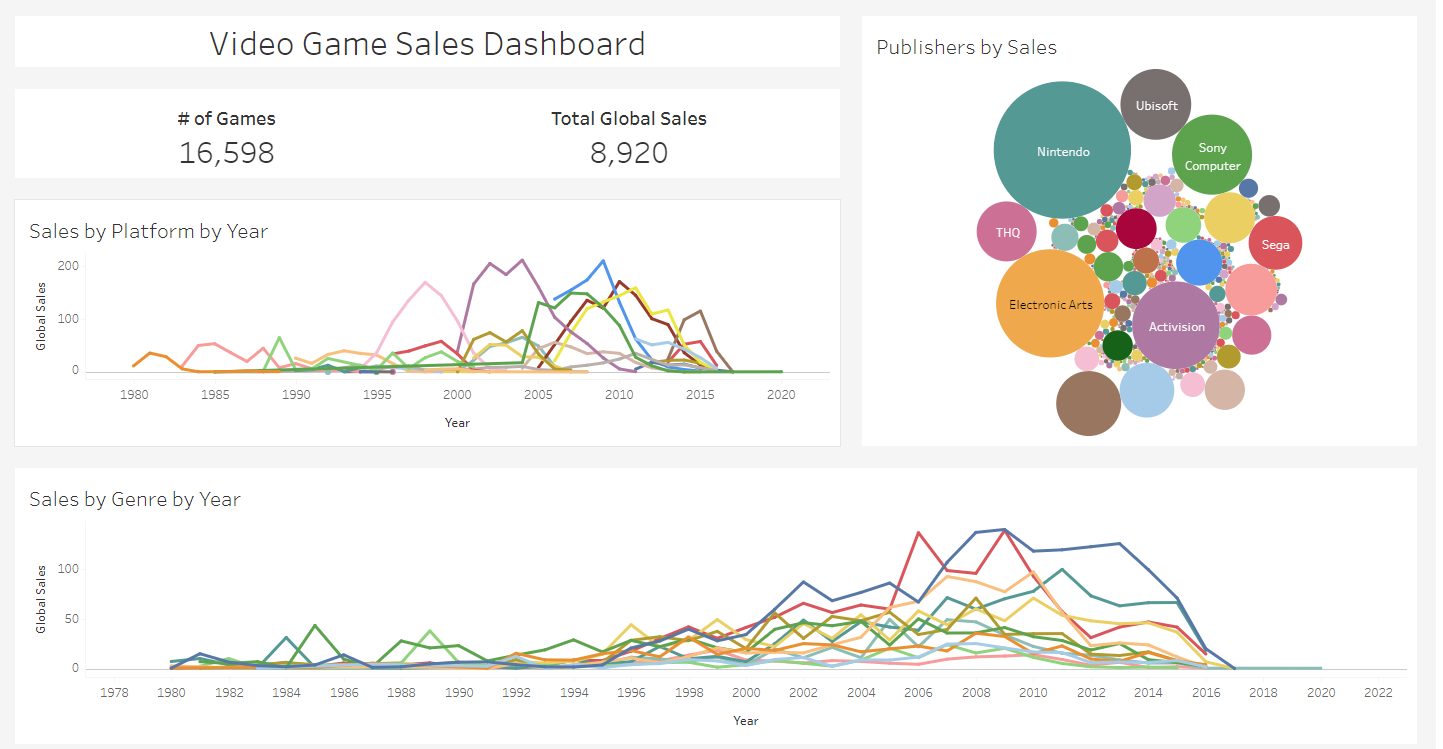

This screenshot's page, from the dashboard's own definition file:
{"tool":"tableau","page":{"name":"Game_Sales_Dashboard","canvas":[1000,1000],"units":"permille","ordinal":0},"visuals":[{"type":"text","box":[5.6,8.9,588.2,81.1]},{"type":"worksheet","title":"Publishers by Sales","mark":"Circle","box":[593.8,8.9,400.7,592.2]},{"type":"worksheet","title":"KPIs","mark":"Automatic","box":[5.6,90,588.2,123.3]},{"type":"worksheet","title":"Sales by Platform by Year","mark":"Automatic","rows":["Global_Sales"],"cols":["Year"],"box":[5.6,213.3,588.2,387.8]},{"type":"worksheet","title":"Sales by Genre by Year","mark":"Automatic","rows":["Global_Sales"],"cols":["Year"],"box":[5.6,601.1,988.9,390]}]}

Visuals, with their boxes on the dashboard's canvas, which has no fixed pixel size, in thousandths of its width and height (x1, y1, x2, y2). These are canvas units, not pixel positions in the 1443x749 screenshot, which may show the page scaled, cropped or inside an application window:
text: rect(6, 9, 594, 90)
"Publishers by Sales" worksheet (Circle marks): rect(594, 9, 994, 601)
"KPIs" worksheet: rect(6, 90, 594, 213)
"Sales by Platform by Year" worksheet: rect(6, 213, 594, 601)
"Sales by Genre by Year" worksheet: rect(6, 601, 994, 991)
